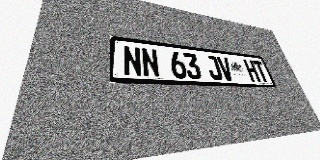3: (183, 52, 202, 80)
6: (168, 51, 188, 79)
H: (243, 59, 261, 82)
J: (204, 55, 223, 81)
N: (123, 45, 143, 77), (141, 47, 160, 78)
T: (252, 60, 270, 82)
V: (216, 56, 235, 81)
